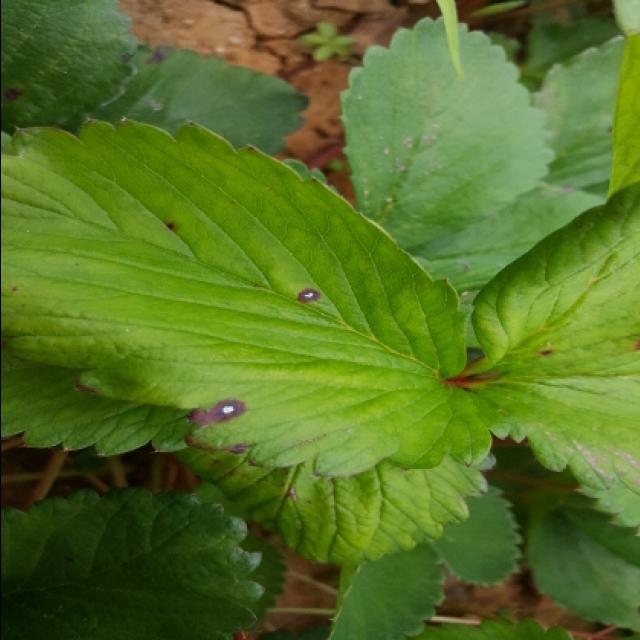Leaf Spot: (2, 111, 492, 479), (447, 179, 640, 529), (166, 449, 495, 566), (95, 41, 309, 156), (2, 0, 140, 135)
